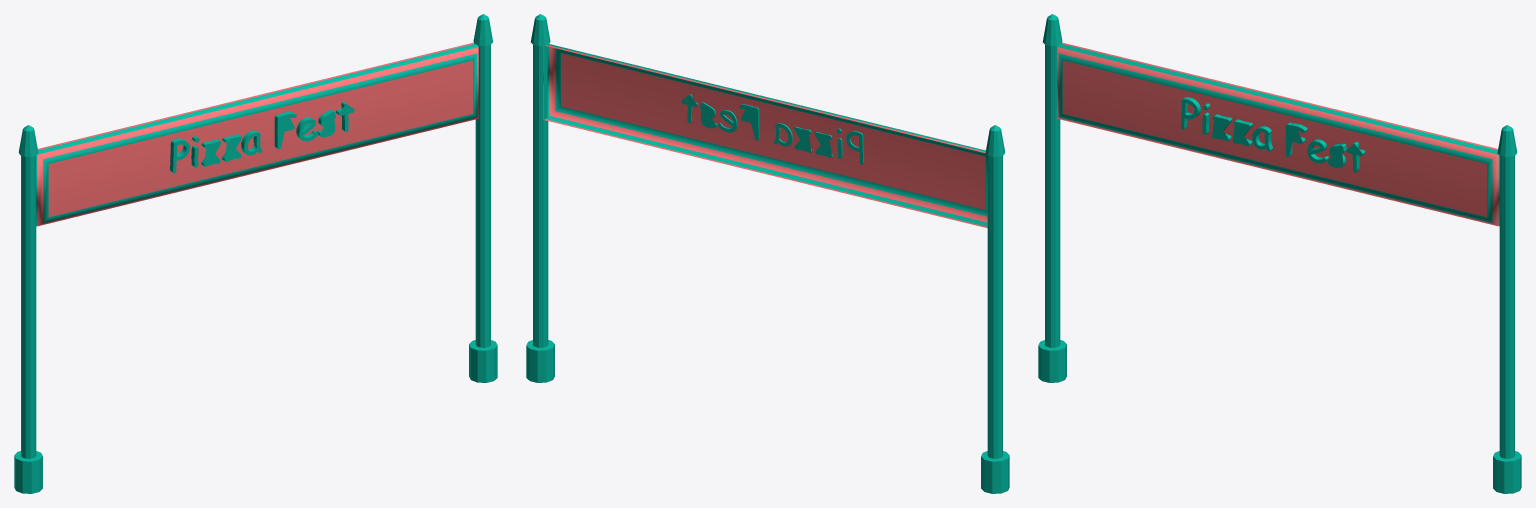
File: Board_geo_rev (1).fbx
3 renders of one model, left to right at view 1: azimuth 30°, elevation 25°; view 2: azimuth 150°, elevation 25°; view 3: azimuth 330°, elevation 25°, orthographic.
Visible parts, largest first — view 1: Board, PinkTurqFlag3, PinkTurqFlag2; view 2: Board, PinkTurqFlag3, PinkTurqFlag2; view 3: Board, PinkTurqFlag2, PinkTurqFlag3.
Part boxes in pixels (x1,y1,x2,y2): Board: (36,42,478,226); PinkTurqFlag3: (14,125,42,493); PinkTurqFlag2: (469,14,497,382); Board: (543,44,987,228); PinkTurqFlag3: (981,125,1009,493); PinkTurqFlag2: (526,14,554,382); Board: (1057,42,1499,226); PinkTurqFlag2: (1493,125,1521,493); PinkTurqFlag3: (1038,14,1066,382).
Bounding box in the file's own units: 72.84 × 52.67 × 3.91.
Materials: 2 (2 with a texture image).
